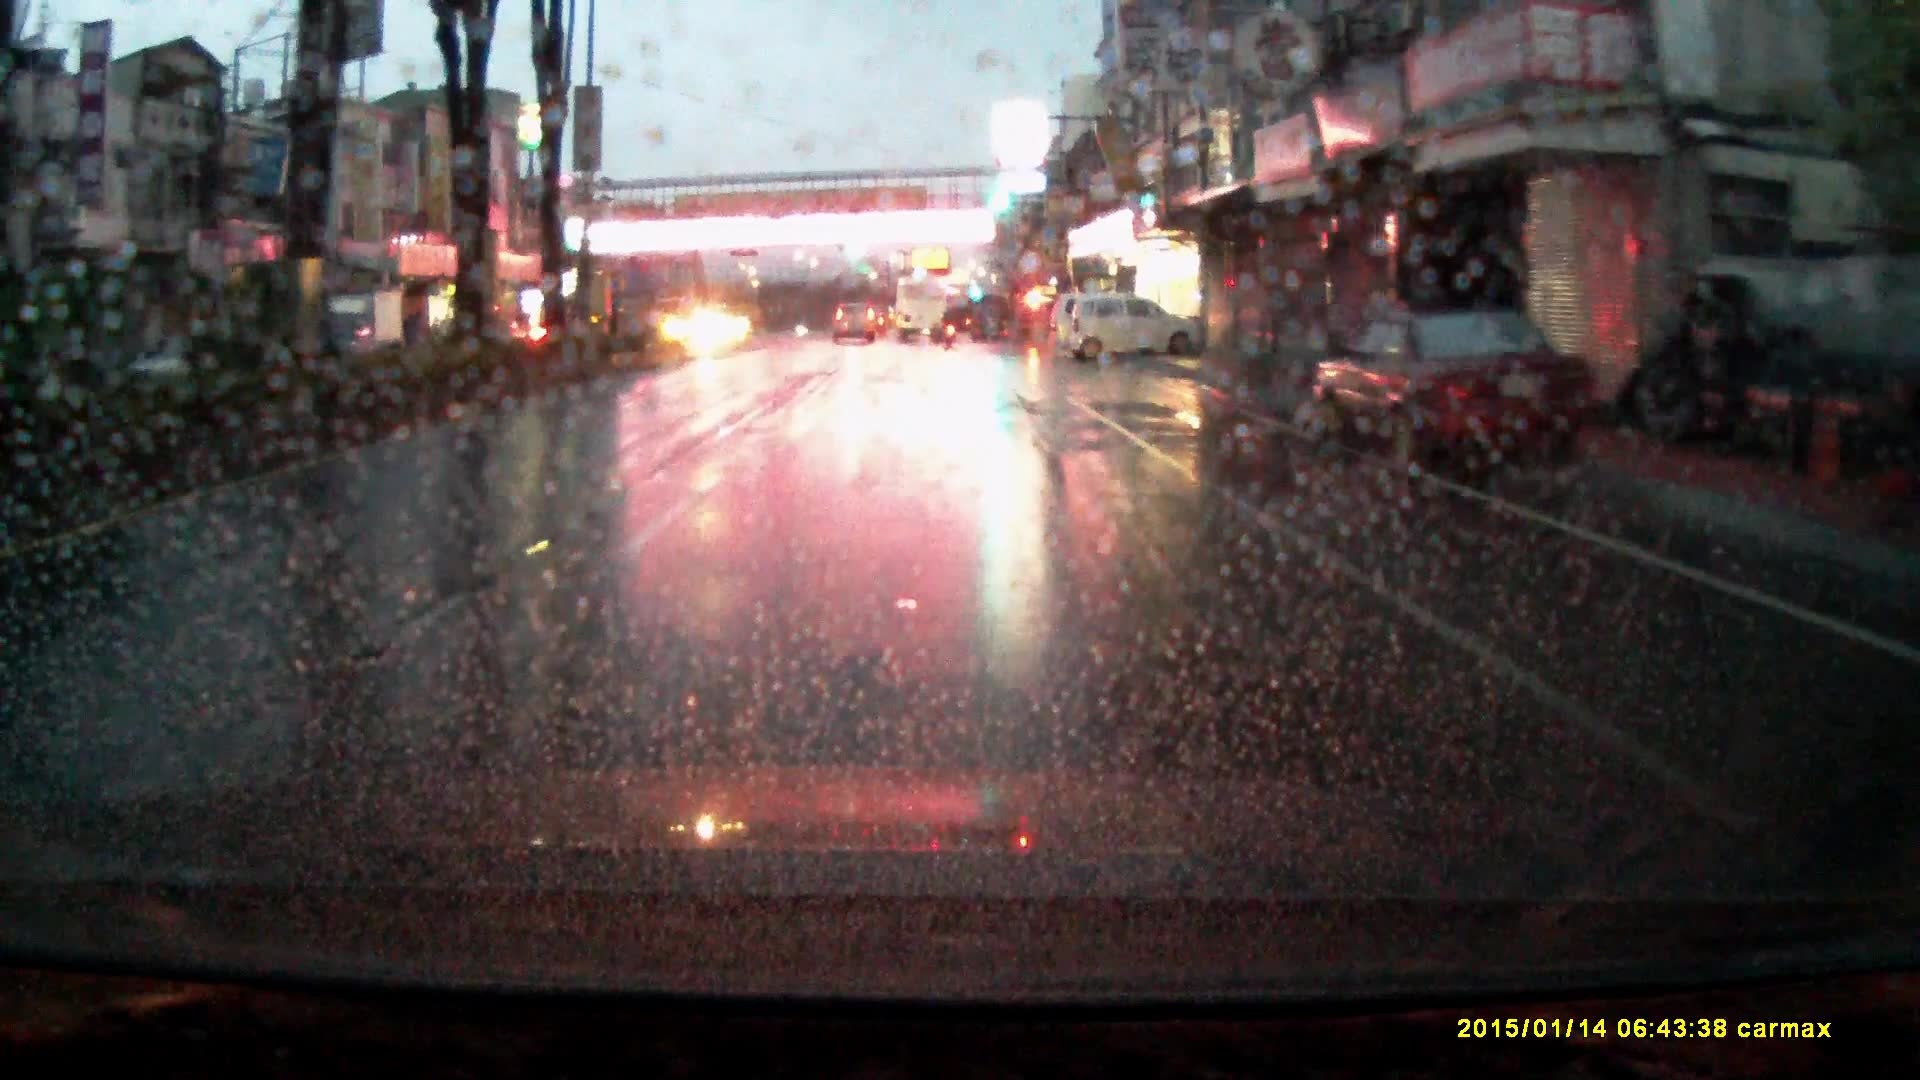vehicle: (1313, 309, 1597, 472), (1069, 287, 1207, 367), (324, 285, 407, 360), (895, 276, 947, 340), (1048, 291, 1102, 347), (833, 297, 880, 339)
